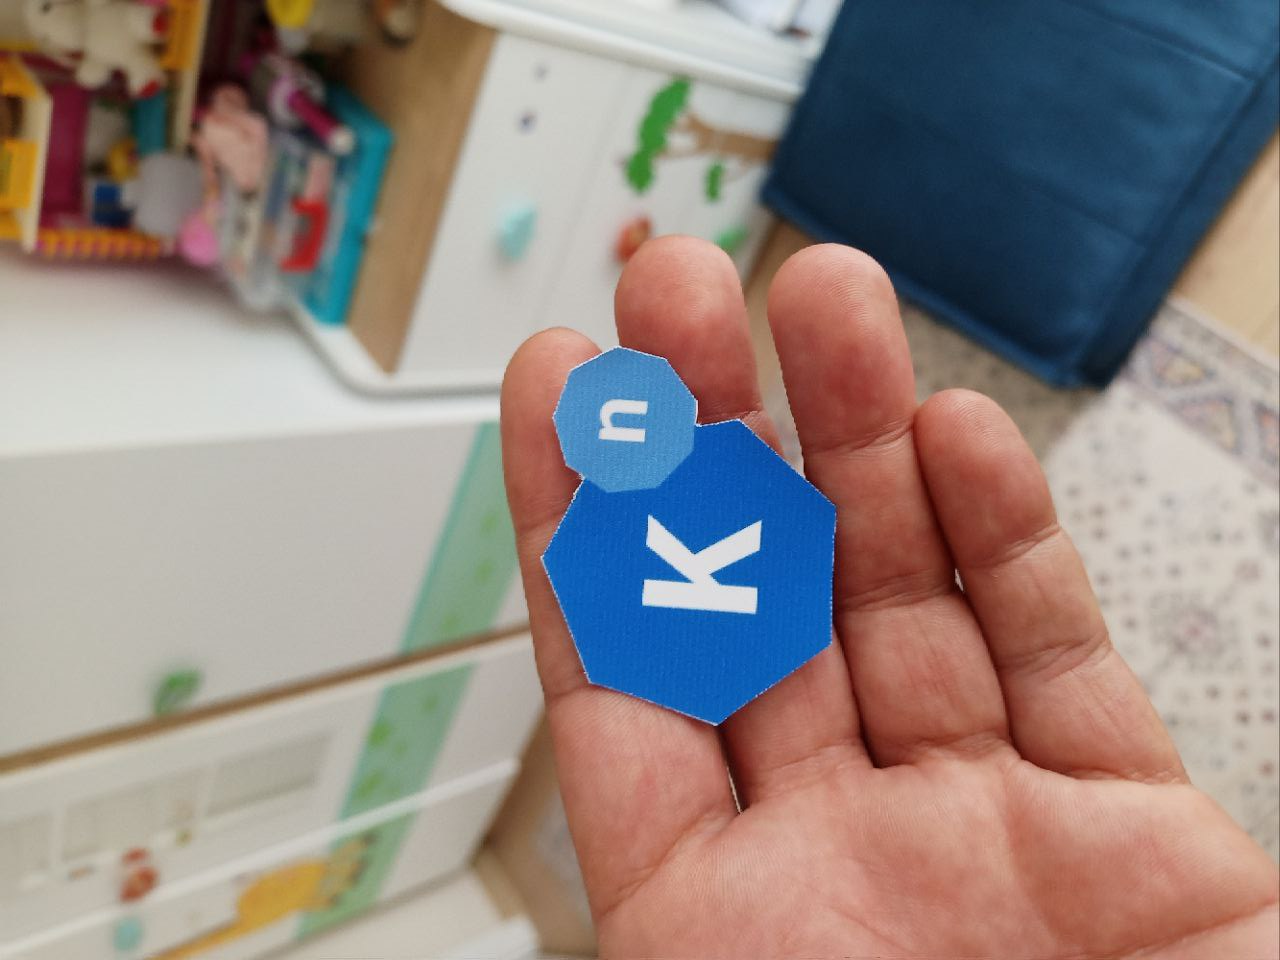knative: (539, 347, 834, 731)
